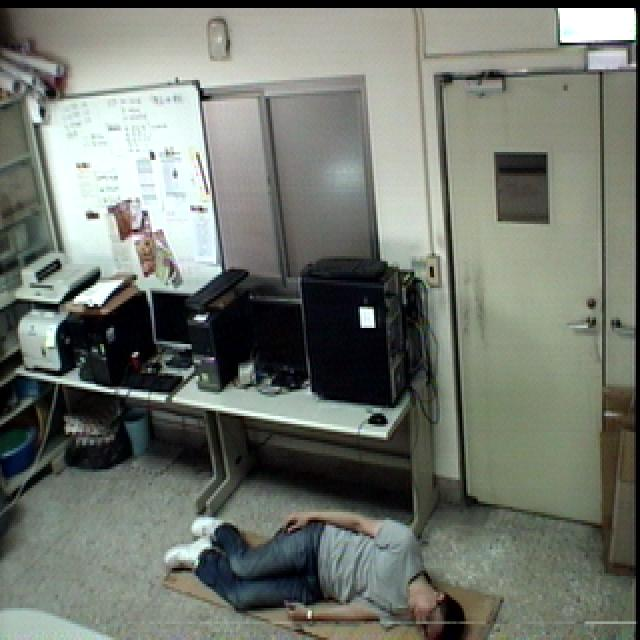lie: (160, 498, 475, 640)
